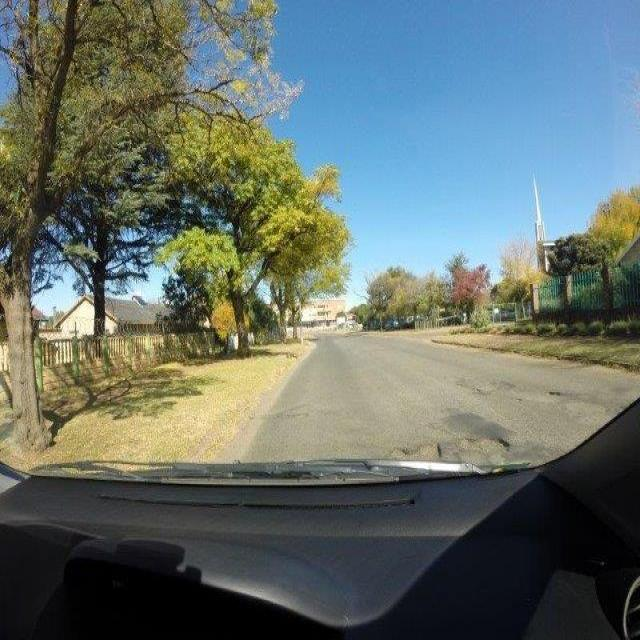lubang: (449, 425, 524, 463), (380, 436, 445, 468)
